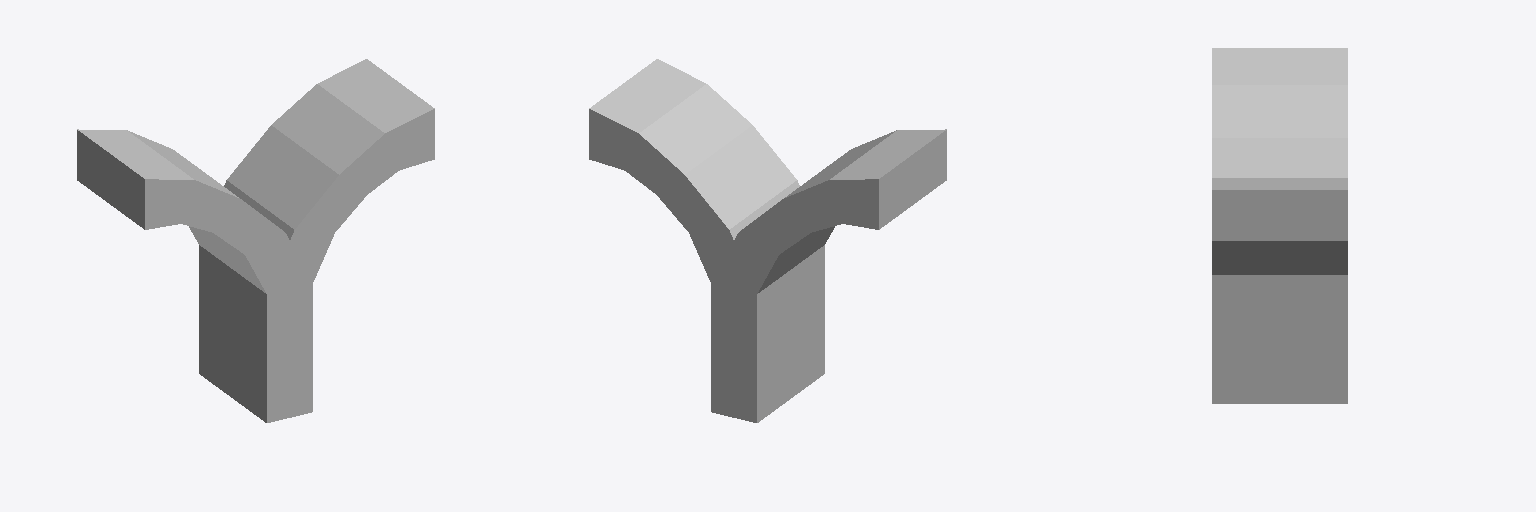
The model's file is arcbridgepillar.obj.
The picture shows the model from 3 angles: view 1: azimuth 30°, elevation 25°; view 2: azimuth 150°, elevation 25°; view 3: azimuth 270°, elevation 25°; orthographic projection.
Visible parts, largest first — view 1: Cube_Cube.000; view 2: Cube_Cube.000; view 3: Cube_Cube.000.
Boxes of the visible parts, box(x1,y1,x2,y2) form: Cube_Cube.000: box(77, 59, 434, 422); Cube_Cube.000: box(589, 59, 946, 422); Cube_Cube.000: box(1212, 48, 1347, 403).
Size of the model in its own units: 2.22 by 2.01 by 0.9034.